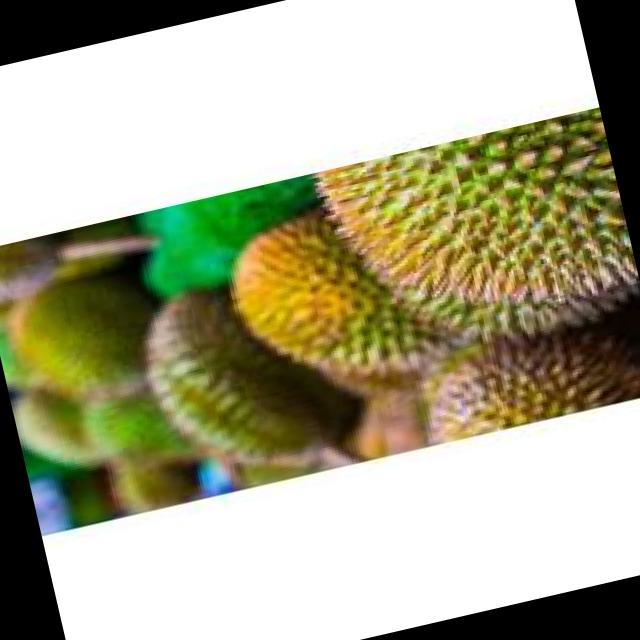fruit: (0, 243, 181, 440)
